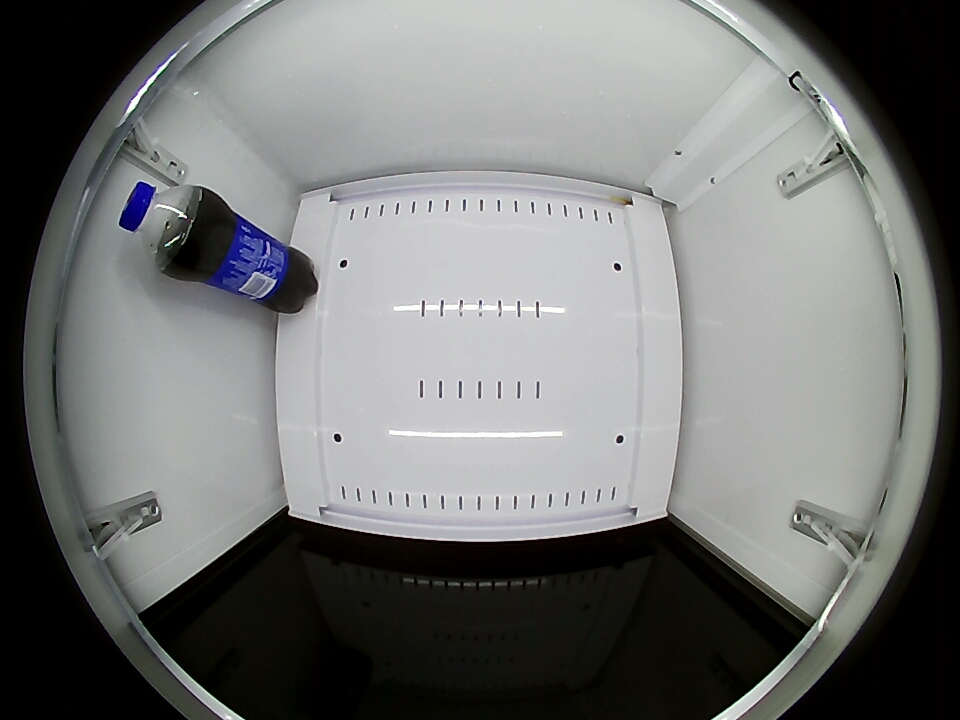baishikele-2: (118, 180, 209, 269)
